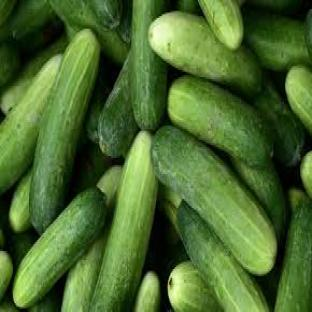Cucumber: (152, 126, 276, 274), (31, 29, 100, 233), (90, 131, 158, 311), (13, 189, 106, 308), (178, 201, 268, 311), (167, 76, 273, 166), (149, 11, 261, 96), (0, 56, 61, 193), (0, 36, 66, 114), (253, 76, 304, 166), (233, 158, 286, 242), (62, 223, 109, 311), (244, 9, 309, 71), (98, 54, 137, 157), (275, 203, 311, 311), (167, 262, 221, 311), (84, 63, 109, 145), (72, 142, 111, 193), (286, 65, 311, 134), (19, 18, 63, 57), (9, 169, 32, 233), (97, 31, 129, 66), (8, 230, 37, 268), (97, 165, 122, 209), (257, 264, 280, 310), (134, 271, 160, 311), (160, 185, 181, 233), (0, 44, 20, 86), (28, 287, 61, 311), (0, 252, 12, 301), (288, 187, 310, 213), (301, 153, 311, 197), (0, 296, 20, 311), (306, 9, 311, 60), (0, 228, 5, 249), (0, 112, 5, 123)
